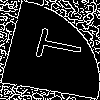T: (24, 24, 85, 65)
